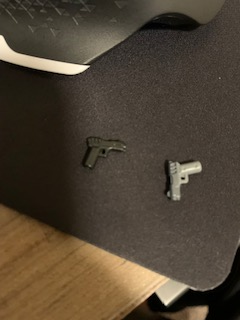pistol: (159, 155, 205, 204), (78, 130, 127, 174)
